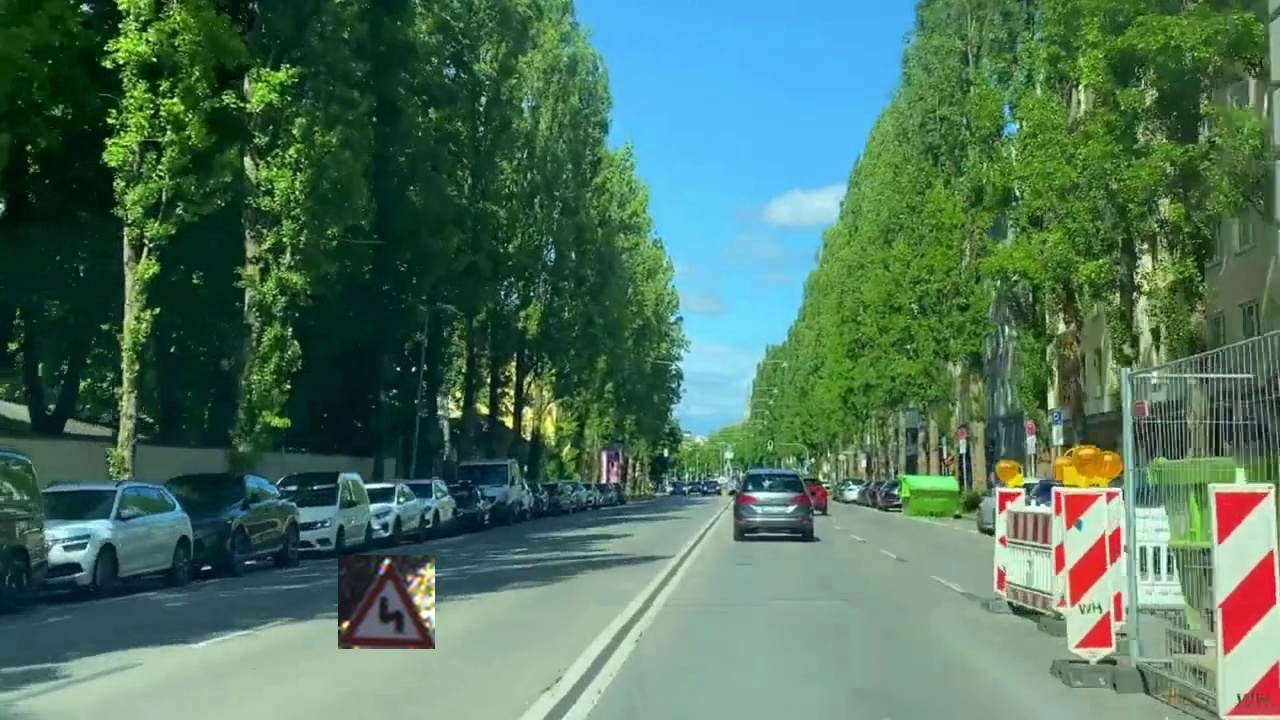Double curve: (338, 555, 435, 649)
